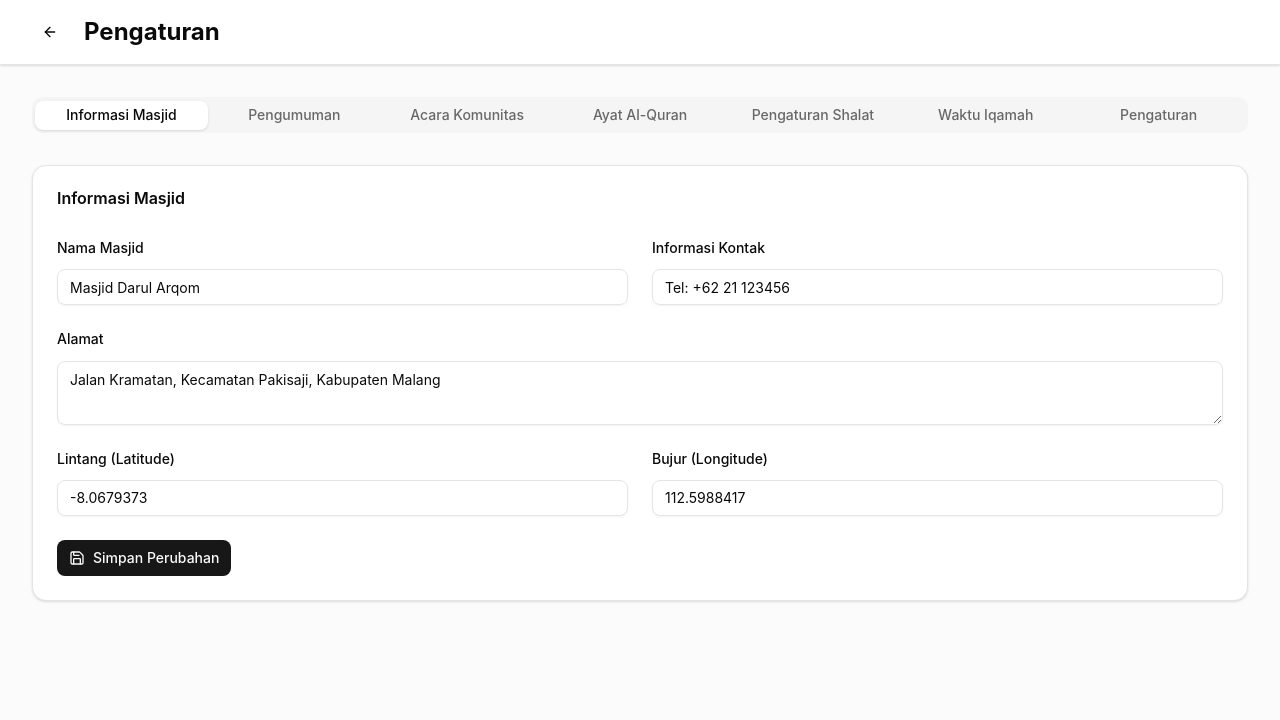
AdminPanel › saves valid iqamah intervals
Click the tab "Waktu Iqamah" at (986, 115), box left=899, top=100, right=1072, bottom=130
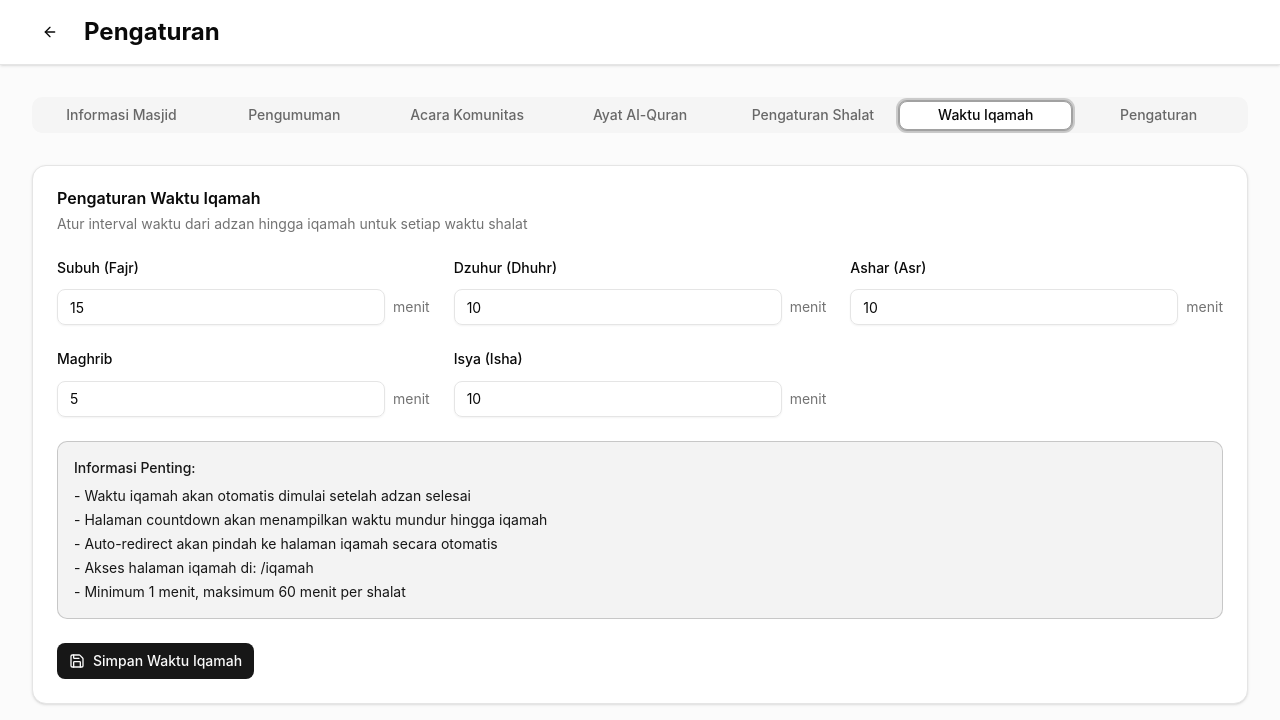
Replace the text in the number field labelled "Dzuhur (Dhuhr)" with "12" at (618, 307), box left=454, top=289, right=782, bottom=325
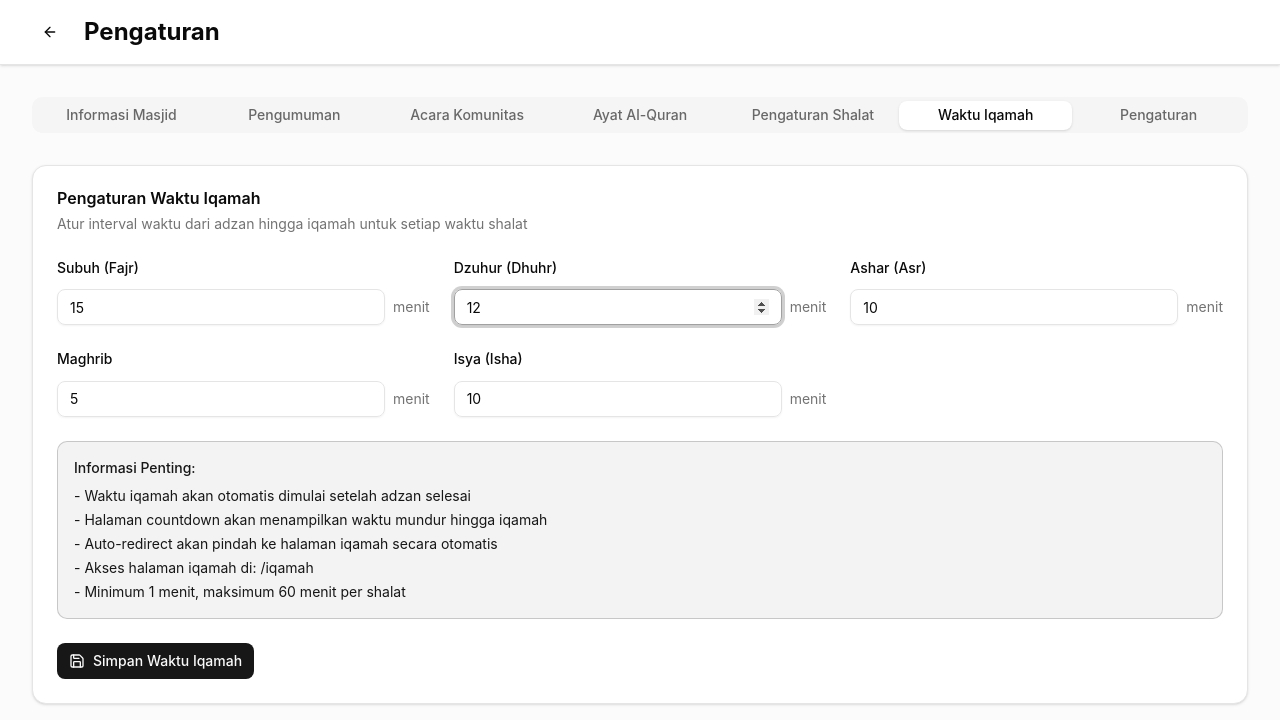
Click the button "Simpan Waktu Iqamah" at (156, 660), box left=57, top=642, right=254, bottom=678
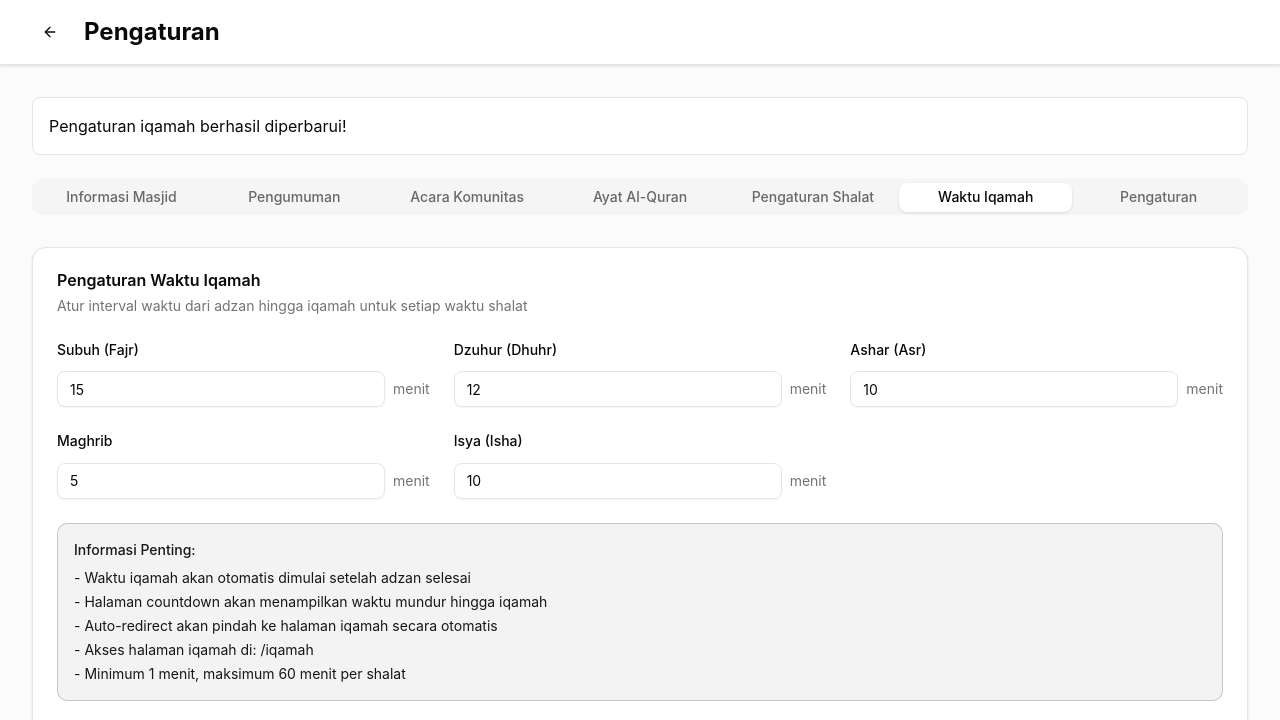
Result: the message shows "Pengaturan iqamah berhasil diperbarui" at left=49, top=116, right=346, bottom=136
